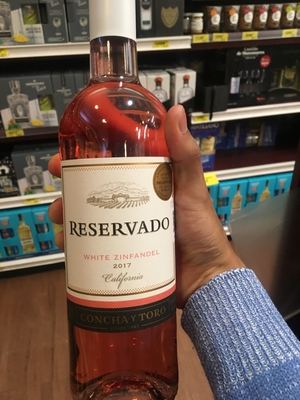reservado white zinfandel: (58, 6, 197, 400)
